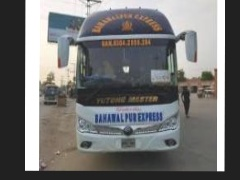bus: (74, 6, 184, 153)
